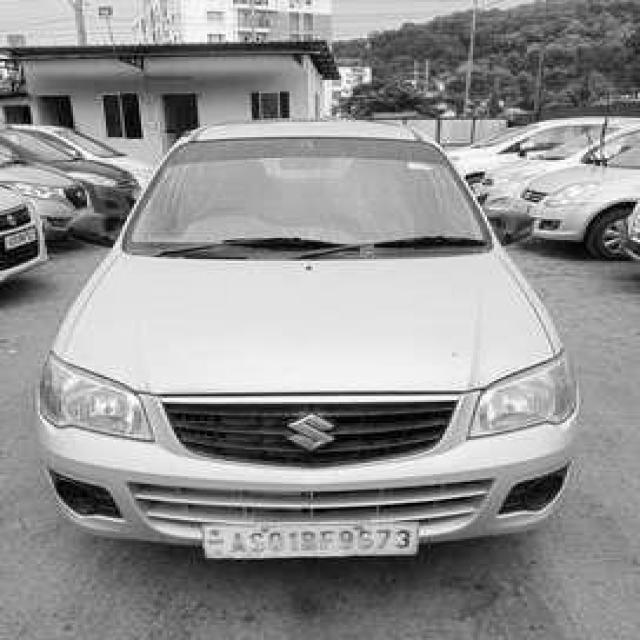car: (36, 116, 584, 577)
license-plate: (207, 528, 419, 562)
